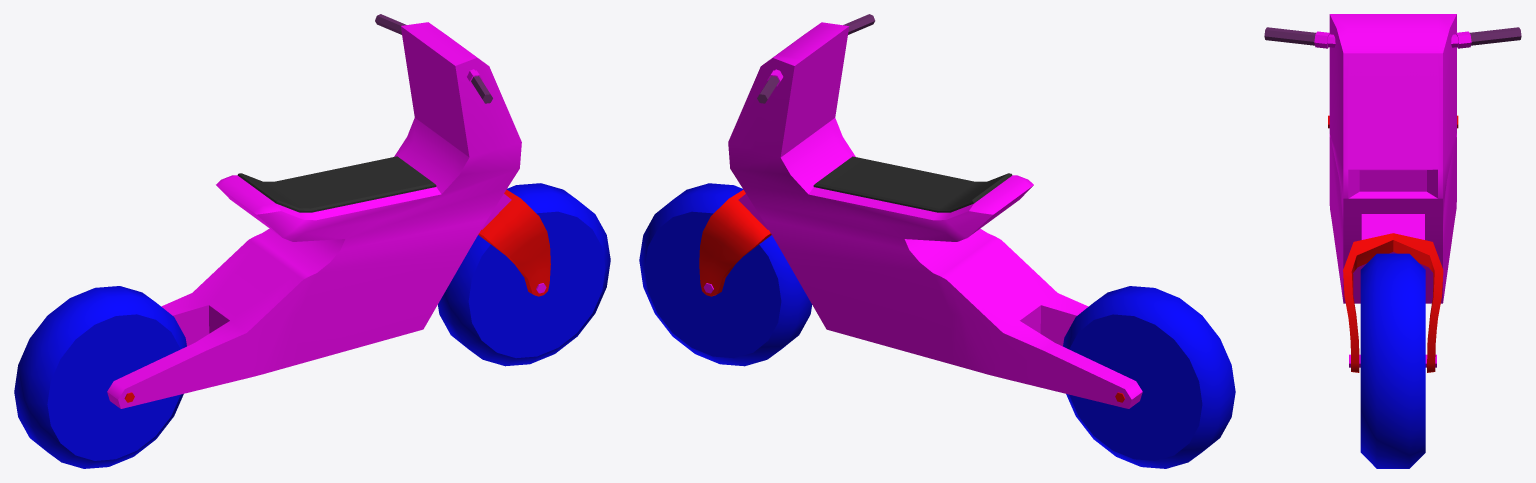
The model's file is SM_Scooter.fbx.
3 renders of one model, left to right at view 1: azimuth 30°, elevation 25°; view 2: azimuth 150°, elevation 25°; view 3: azimuth 270°, elevation 25°, orthographic. The views are drawn at different scales.
Parts seen in each view (by area): view 1: SM_Scooter; view 2: SM_Scooter; view 3: SM_Scooter.
Part boxes in pixels (x1=…): SM_Scooter: x1=14, y1=14, x2=610, y2=468; SM_Scooter: x1=639, y1=14, x2=1235, y2=468; SM_Scooter: x1=1264, y1=14, x2=1521, y2=468.
Bounding box in the file's own units: 1.8 × 0.9955 × 0.5925.
